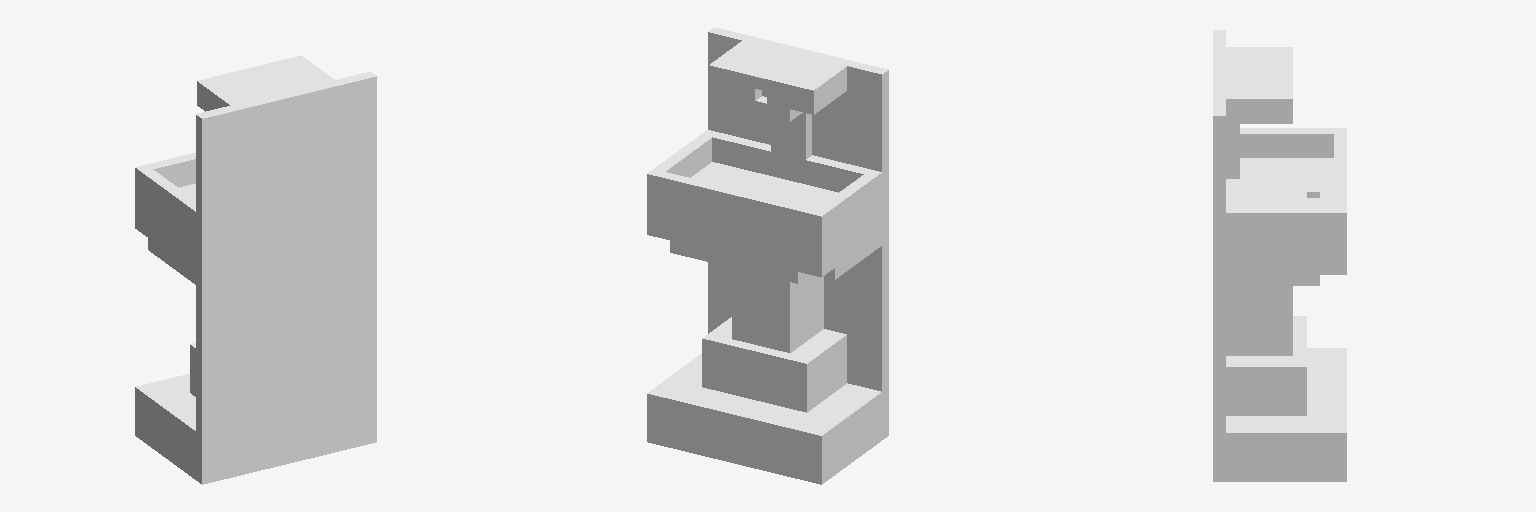
Rendered from Schoolwaterfountain.obj.
The picture shows the model from 3 angles: view 1: azimuth 30°, elevation 25°; view 2: azimuth 150°, elevation 25°; view 3: azimuth 270°, elevation 25°; orthographic projection.
Visible parts, largest first — view 1: object 1; view 2: object 1; view 3: object 1.
Boxes of the visible parts, x1,y1,x2,y2 form: object 1: [135, 55, 376, 484]; object 1: [647, 27, 888, 484]; object 1: [1213, 30, 1346, 481].
Size of the model in its own units: 1.5 by 3 by 1.